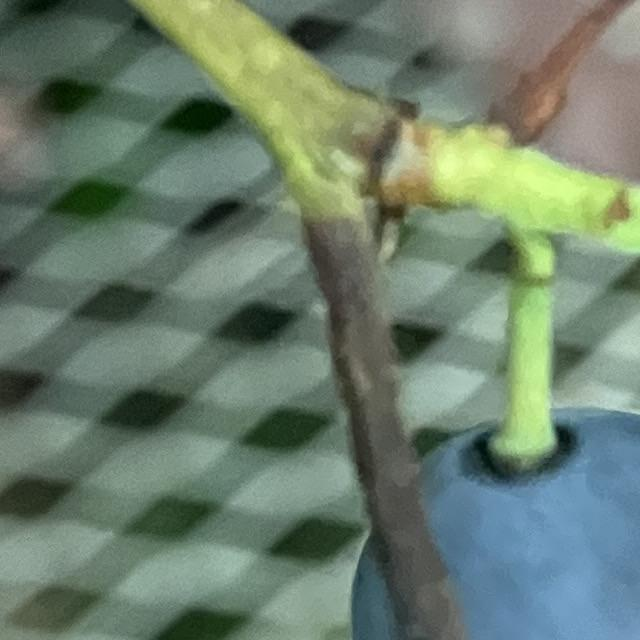Blueberries: (339, 369, 640, 640)
